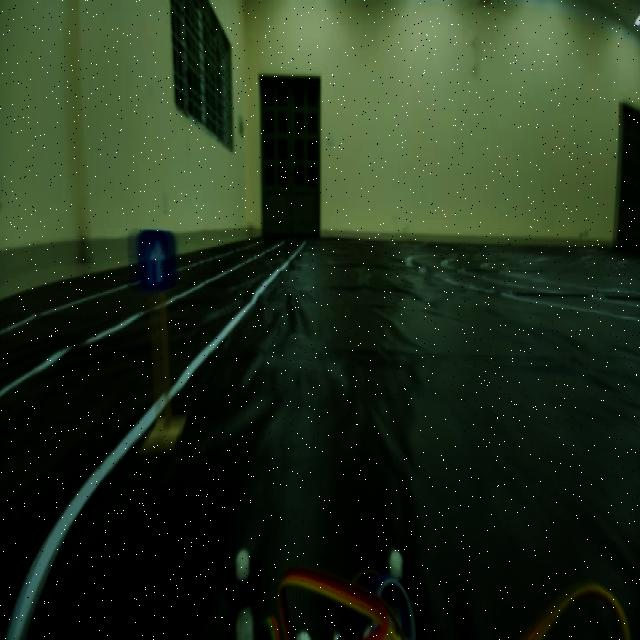onewayroad: (128, 219, 172, 307)
